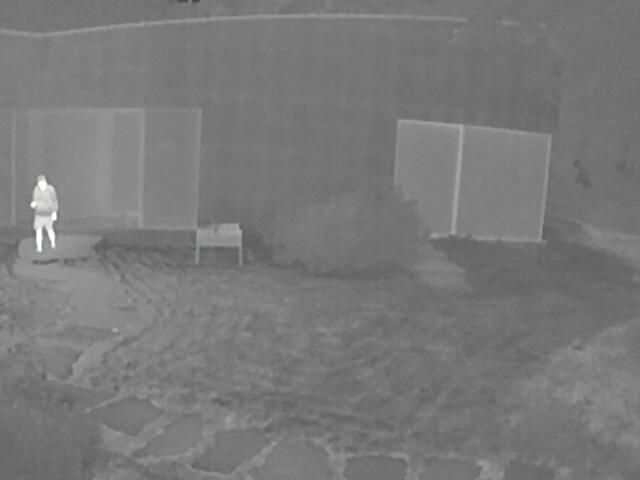person: (31, 174, 57, 252)
